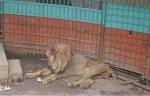lion: (41, 43, 114, 87)
